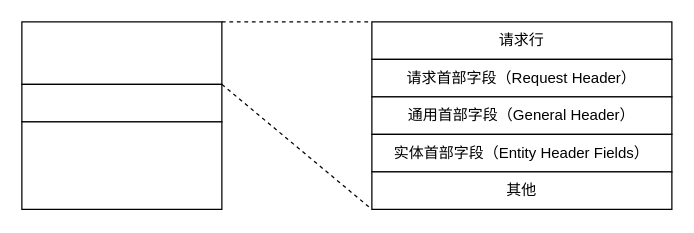
This 694x233 diagram has some shape labels left out. Here are the shapes that lost their labels. From the top down, the centre of each, then its label:
At (121,52): "报文首部".
At (121,102): "空行（CR + LF）".
At (121,165): "报文主体".
